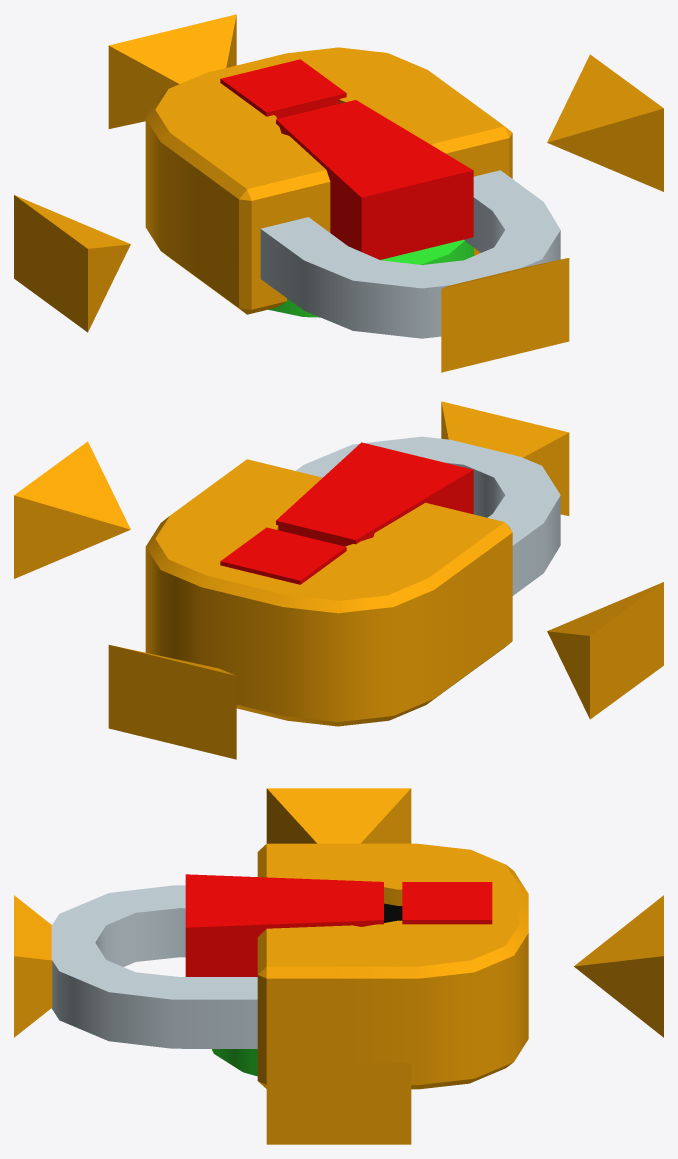
Rendered from levelMarker.fbx.
3 views of the same model, one above another, from view 1: azimuth 30°, elevation 25°; view 2: azimuth 150°, elevation 25°; view 3: azimuth 270°, elevation 25° (orthographic). The views are drawn at different scales.
Visible parts, largest first — view 1: levelLocked, levelSelected, levelUnlocked, lockTop, levelCompleted; view 2: levelLocked, levelSelected, levelUnlocked, lockTop; view 3: levelLocked, levelSelected, lockTop, levelUnlocked, levelCompleted.
Part boxes in pixels (<box>): levelLocked: <box>145,47,512,314</box>; levelSelected: <box>14,14,663,372</box>; levelUnlocked: <box>220,59,473,259</box>; lockTop: <box>260,170,560,338</box>; levelCompleted: <box>268,239,473,317</box>; levelLocked: <box>145,459,512,726</box>; levelSelected: <box>14,401,663,759</box>; levelUnlocked: <box>220,442,473,584</box>; lockTop: <box>296,436,560,595</box>; levelLocked: <box>257,843,528,1089</box>; levelSelected: <box>14,788,663,1144</box>; lockTop: <box>51,885,257,1048</box>; levelUnlocked: <box>185,874,492,976</box>; levelCompleted: <box>212,1049,257,1076</box>.
Size of the model in its own units: 0.36 by 0.085 by 0.36.
